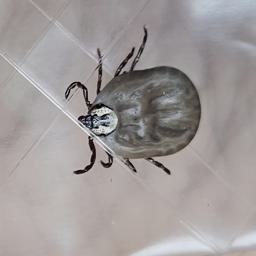Dermacentor variabilis: (65, 27, 203, 176)
